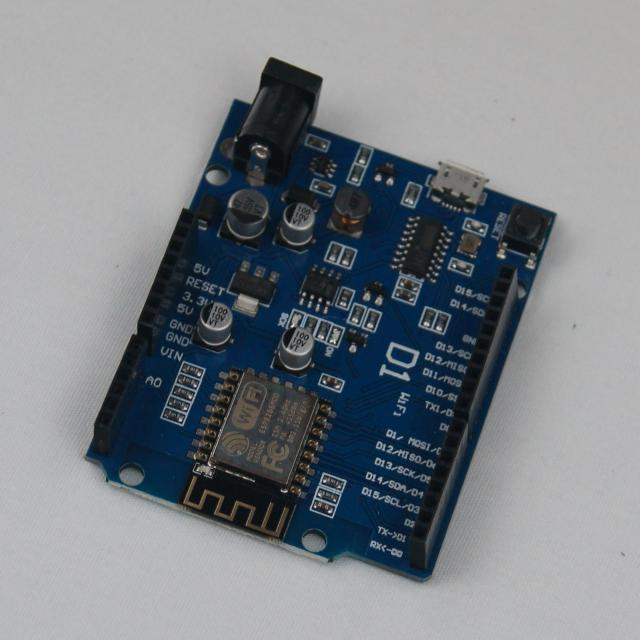Arduino Uno WiFi Shield: (87, 59, 556, 581)
